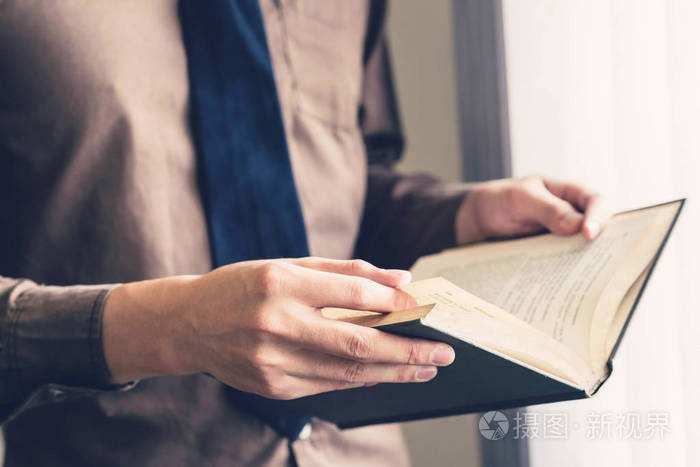no-phone: (162, 242, 610, 432)
